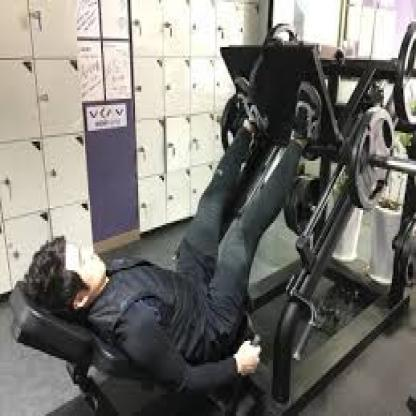leg press: (8, 4, 416, 416)
